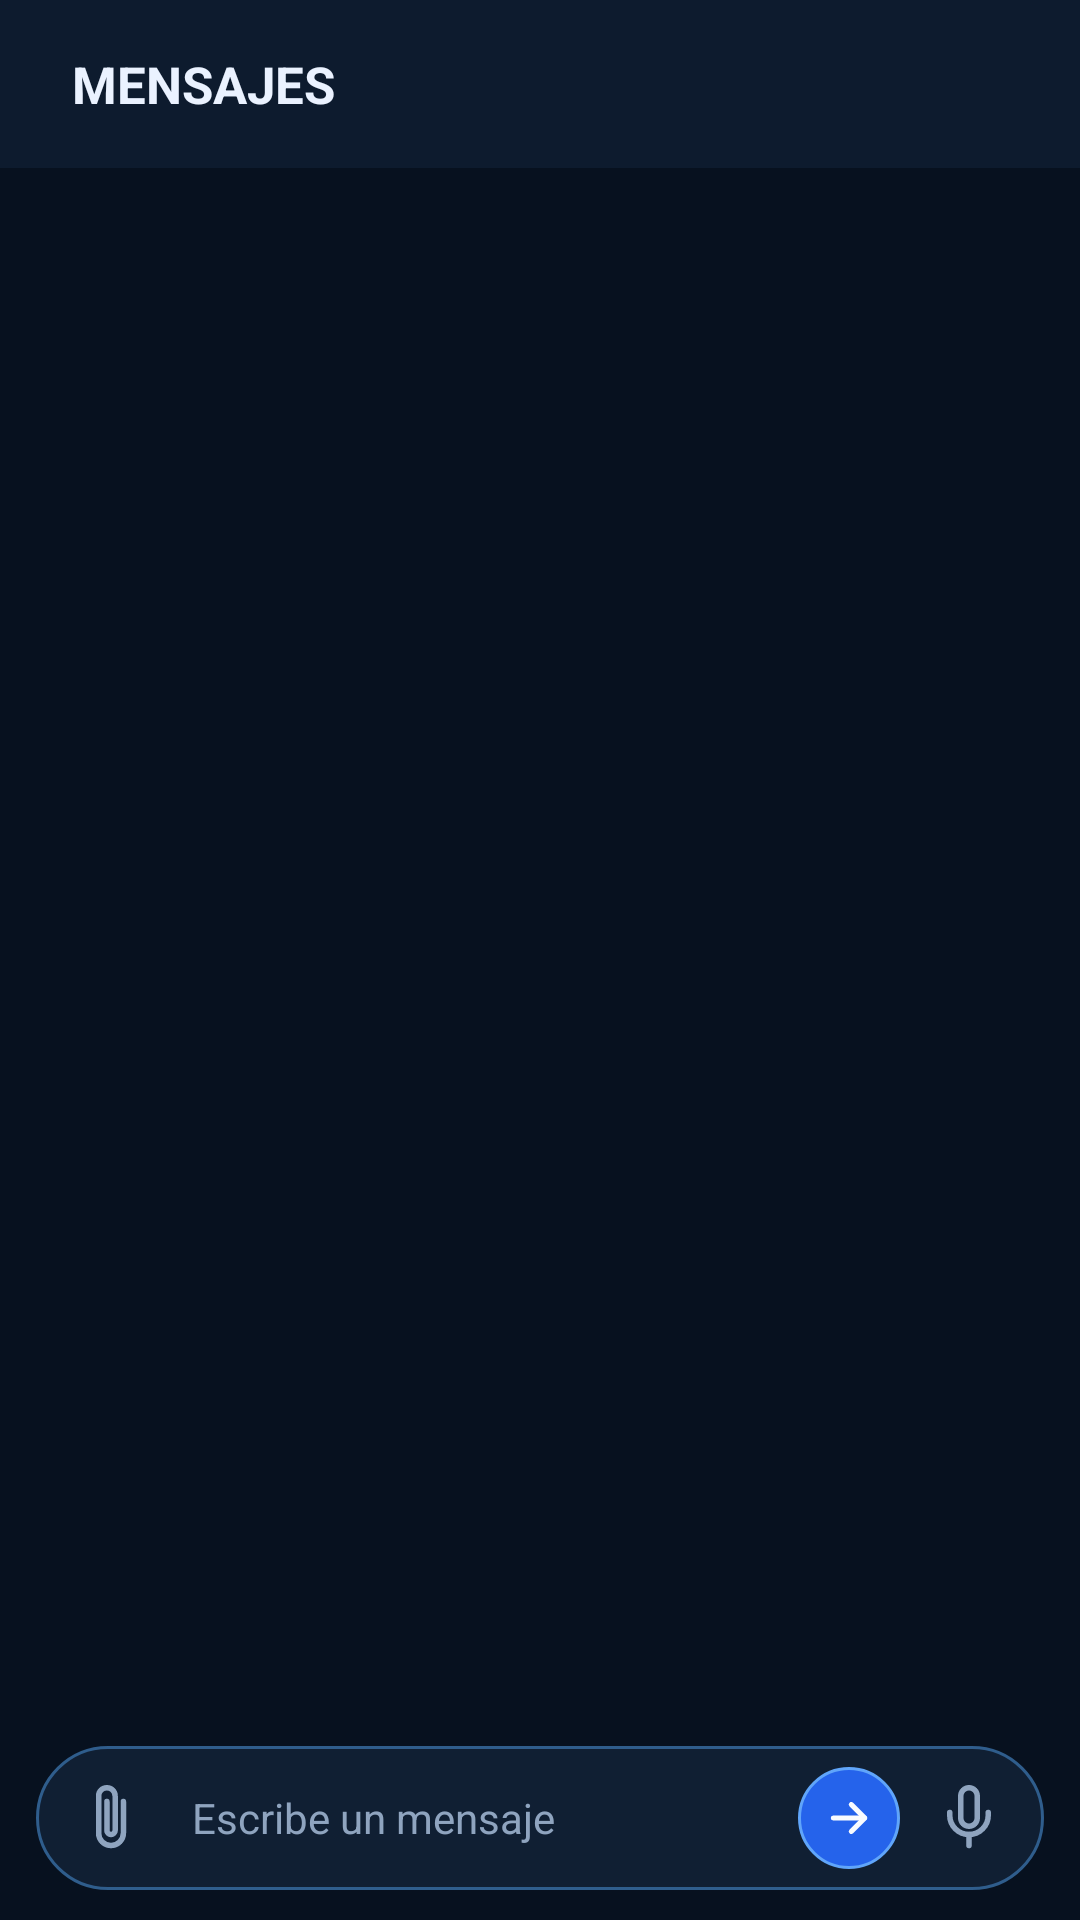

Where to tap for icons on this 1080*1920 app screen, as point (x, y):
Adjuntar: point (111, 1817)
Enviar: point (849, 1818)
Mensaje de voz: point (969, 1817)
